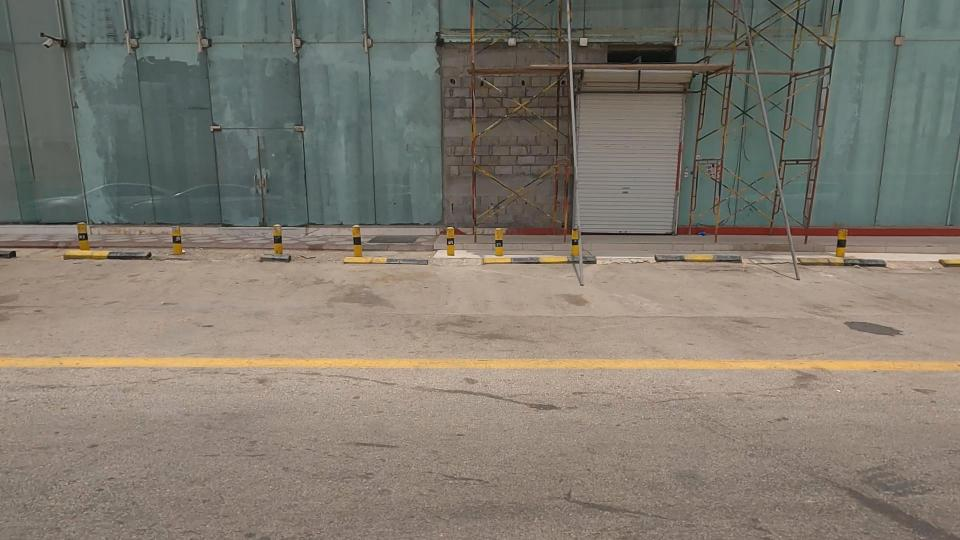UNKEPT_FACADE: (314, 0, 711, 326)
